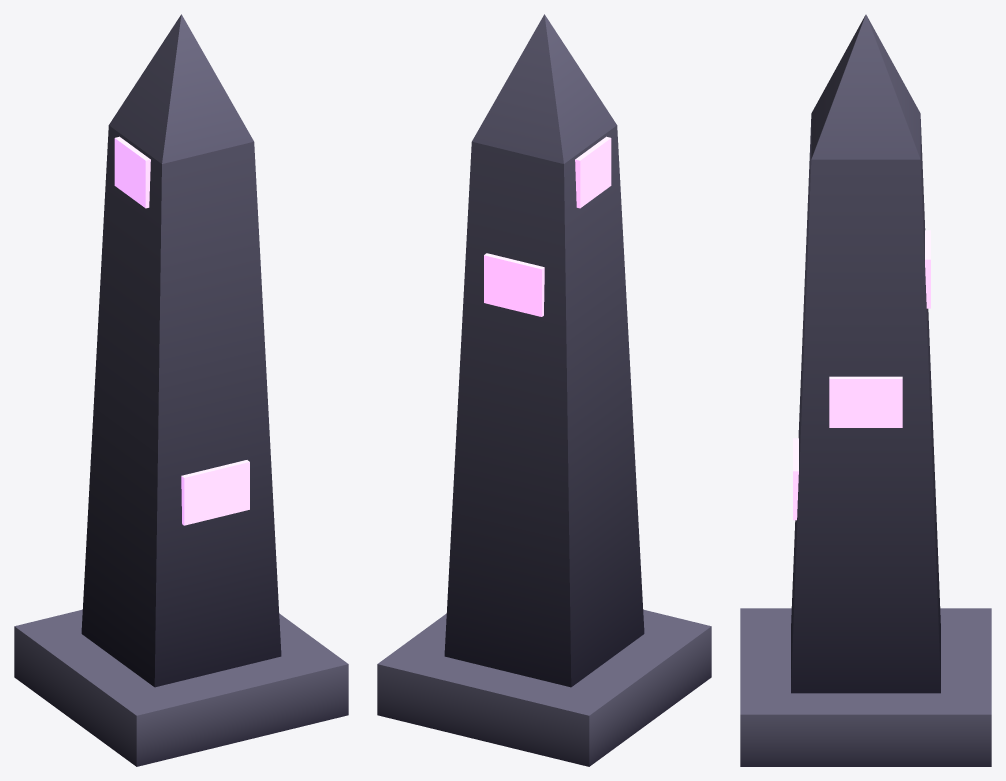
The model's file is rune_obelisk_violet.glb.
The picture shows the model from 3 angles, left to right: view 1: azimuth 30°, elevation 25°; view 2: azimuth 150°, elevation 25°; view 3: azimuth 270°, elevation 25°; orthographic projection. The views are drawn at different scales.
Parts seen in each view (by area): view 1: rune_obelisk_violet; view 2: rune_obelisk_violet; view 3: rune_obelisk_violet.
Boxes of the visible parts, x1,y1,x2,y2 form: rune_obelisk_violet: (14,14,348,766); rune_obelisk_violet: (377,14,711,766); rune_obelisk_violet: (740,14,991,766).
Bounding box in the file's own units: 1.3 × 4 × 1.3.
